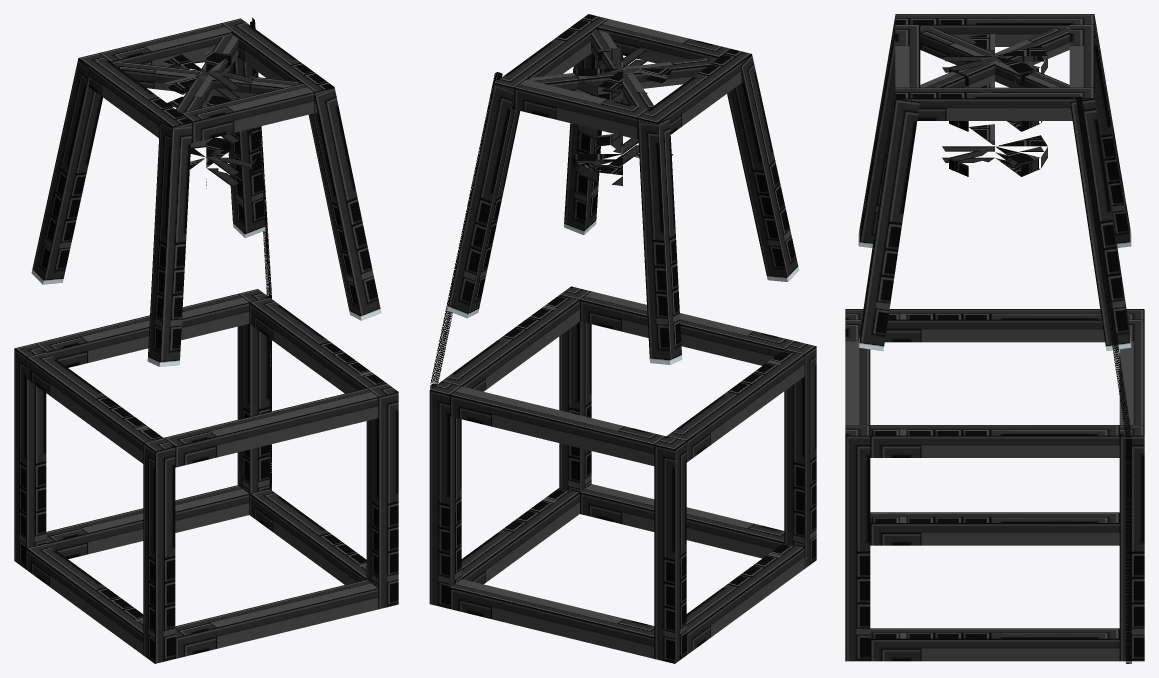
The model's file is drill.obj.
The picture shows the model from 3 angles, left to right: view 1: azimuth 30°, elevation 25°; view 2: azimuth 150°, elevation 25°; view 3: azimuth 270°, elevation 25°; orthographic projection. The views are drawn at different scales.
Visible parts, largest first — view 1: South, Southwest, Southeast, North, West, Northwest, East, Northeast, SE-NW, RingTop, NE-SW, RingBottom (+1 smaller); view 2: North, Northwest, South, Northeast, West, Southwest, East, Southeast, NE-SW, RingTop, RingBottom, SE-NW (+1 smaller); view 3: East, West, Southeast, Northeast, South, North, Southwest, Northwest, NE-SW, SE-NW, RingBottom, Middle (+2 smaller).
Part boxes in pixels (box(x1,y1,x2,y2)): South: box(164, 83, 378, 658); Southwest: box(143, 121, 191, 663); Southeast: box(308, 88, 398, 609); North: box(35, 23, 249, 559); West: box(26, 53, 192, 654); Northwest: box(14, 59, 102, 569); East: box(221, 18, 386, 584); Northeast: box(227, 57, 269, 493); SE-NW: box(113, 61, 299, 98); RingTop: box(163, 51, 256, 103); NE-SW: box(176, 34, 238, 112); RingBottom: box(190, 137, 256, 188); North: box(450, 79, 665, 658); Northwest: box(637, 118, 686, 663); South: box(580, 19, 795, 558); Northeast: box(429, 84, 520, 608); West: box(637, 49, 804, 654); Southwest: box(727, 54, 816, 568); East: box(441, 14, 608, 584); Southeast: box(559, 53, 601, 492); NE-SW: box(529, 57, 716, 94); RingTop: box(573, 47, 672, 100); RingBottom: box(573, 134, 672, 185); SE-NW: box(591, 30, 653, 109); East: box(870, 87, 1119, 661); West: box(870, 14, 1119, 545); Southeast: box(845, 93, 919, 661); Northeast: box(1070, 93, 1144, 661); South: box(845, 24, 920, 424); North: box(1069, 24, 1144, 424); Southwest: box(845, 16, 895, 319); Northwest: box(1094, 16, 1144, 319); NE-SW: box(920, 27, 1069, 87); SE-NW: box(920, 27, 1069, 87); RingBottom: box(942, 124, 1047, 176); Middle: box(1075, 96, 1131, 437).
Size of the model in its own units: 3.06 by 6.06 by 3.
